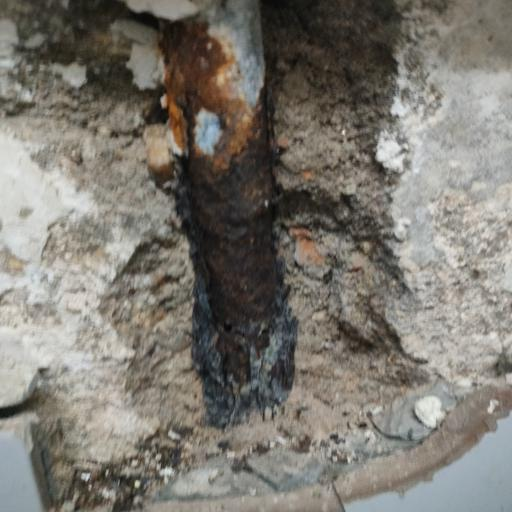spalling: (30, 0, 466, 496)
